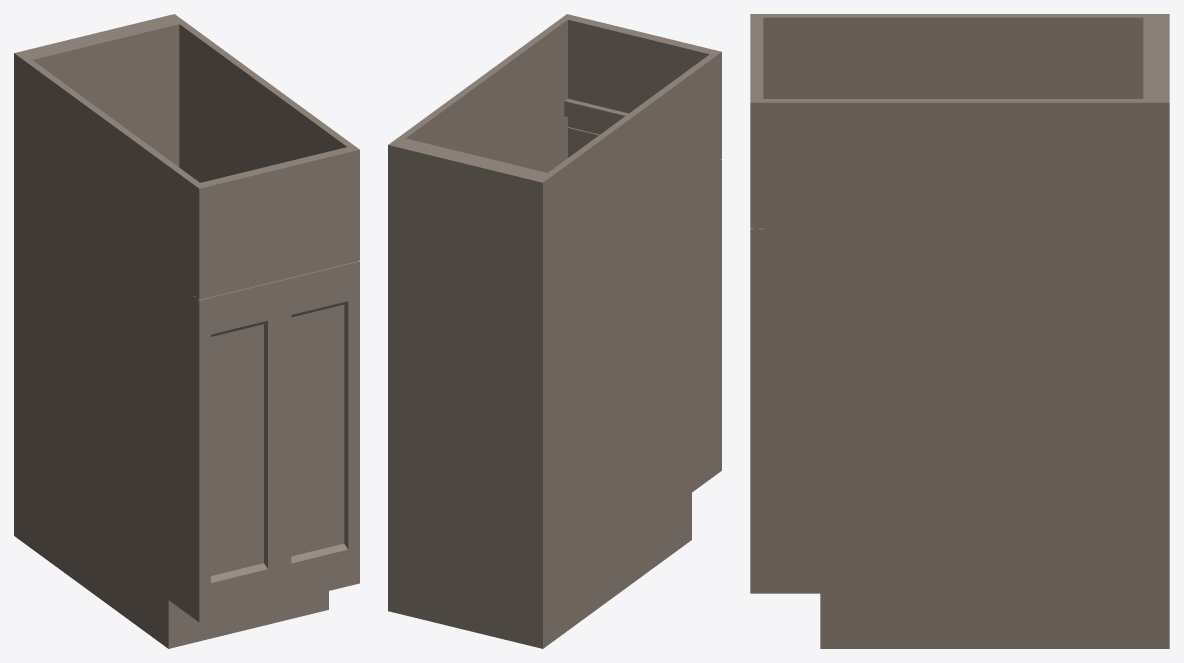
File: Sink-Base-Cabinet-Double-Door-False-Drawer_std_001_W12in.glb
3 renders of one model, left to right at view 1: azimuth 30°, elevation 25°; view 2: azimuth 150°, elevation 25°; view 3: azimuth 270°, elevation 25°, orthographic. The views are drawn at different scales.
Visible parts, largest first — view 1: Sink-Base-Cabinet-Double-Door-False-Drawer.std.001_W12in; view 2: Sink-Base-Cabinet-Double-Door-False-Drawer.std.001_W12in; view 3: Sink-Base-Cabinet-Double-Door-False-Drawer.std.001_W12in.
Part boxes in pixels (box(x1,y1,x2,y2)): Sink-Base-Cabinet-Double-Door-False-Drawer.std.001_W12in: box(14, 14, 359, 648); Sink-Base-Cabinet-Double-Door-False-Drawer.std.001_W12in: box(388, 14, 721, 648); Sink-Base-Cabinet-Double-Door-False-Drawer.std.001_W12in: box(750, 14, 1169, 648).
Size of the model in its own units: 0.3048 by 0.8763 by 0.6096.
